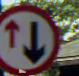Two way: (0, 4, 63, 75)
